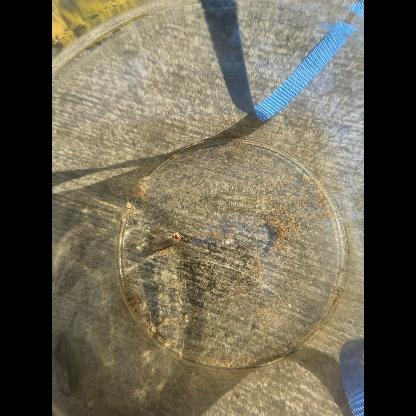Fall Armyworm Moth: (148, 224, 184, 252)
